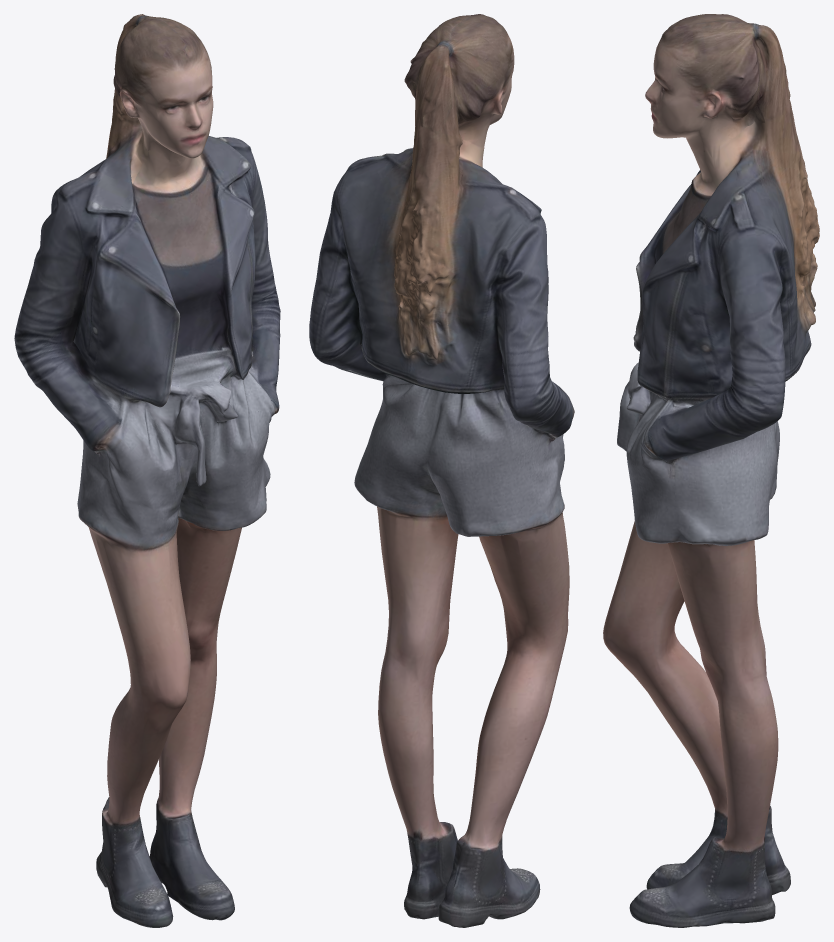
The model's file is input.gltf.
3 views of the same model, side by side, from view 1: azimuth 30°, elevation 25°; view 2: azimuth 150°, elevation 25°; view 3: azimuth 270°, elevation 25° (orthographic).
Visible parts, largest first — view 1: Ponytail_Girl_In_Black_Leather_jacket_and_Grey_Short; view 2: Ponytail_Girl_In_Black_Leather_jacket_and_Grey_Short; view 3: Ponytail_Girl_In_Black_Leather_jacket_and_Grey_Short.
Boxes of the visible parts, left/top/right/bottom form: Ponytail_Girl_In_Black_Leather_jacket_and_Grey_Short: left=14, top=14, right=280, bottom=927; Ponytail_Girl_In_Black_Leather_jacket_and_Grey_Short: left=309, top=14, right=574, bottom=927; Ponytail_Girl_In_Black_Leather_jacket_and_Grey_Short: left=603, top=14, right=819, bottom=927.
Bounding box in the file's own units: 0.5285 × 1.81 × 0.4009.
Materials: 1 (1 with a texture image).
